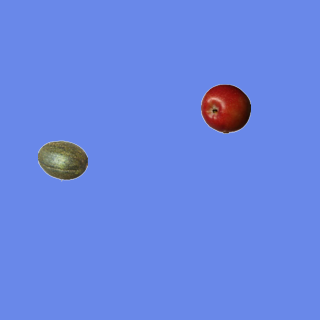Apple Braeburn: (200, 83, 250, 133)
Melon Piel de Sapo: (37, 135, 87, 185)
